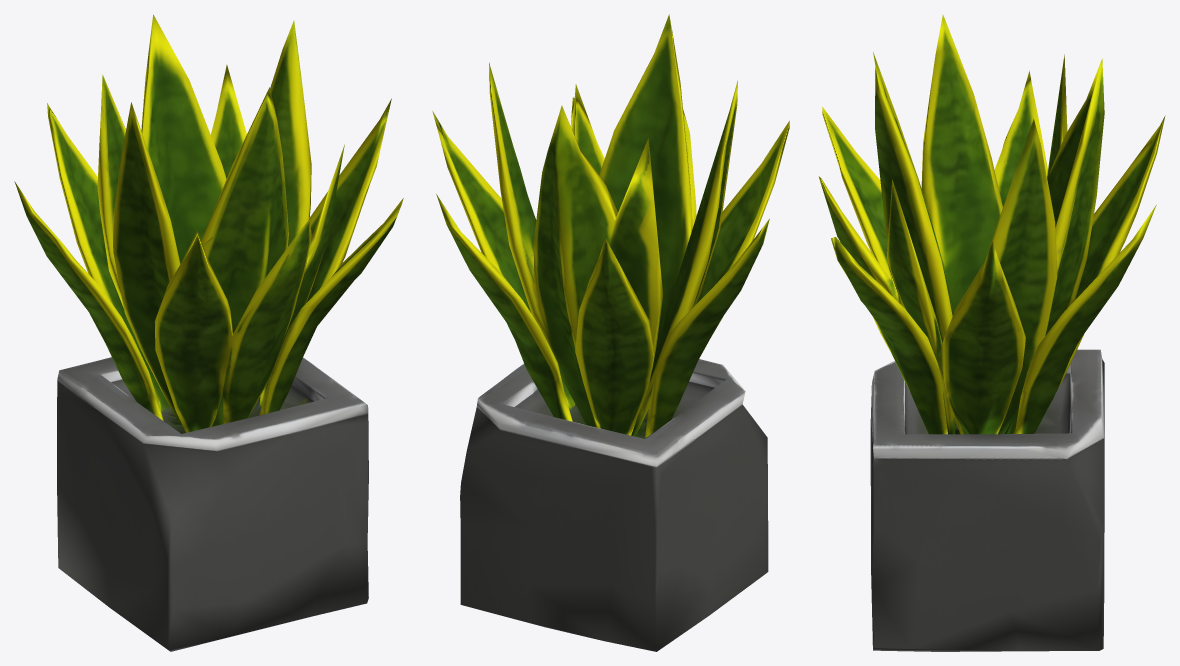
The model's file is plant_snake.glb.
The picture shows the model from 3 angles, left to right: view 1: azimuth 30°, elevation 25°; view 2: azimuth 150°, elevation 25°; view 3: azimuth 270°, elevation 25°; orthographic projection. The views are drawn at different scales.
Parts seen in each view (by area): view 1: tripo_node_695971ed-5686-43da-aad8-21e5806274a9; view 2: tripo_node_695971ed-5686-43da-aad8-21e5806274a9; view 3: tripo_node_695971ed-5686-43da-aad8-21e5806274a9.
Part boxes in pixels (x1,y1,x2,y2): tripo_node_695971ed-5686-43da-aad8-21e5806274a9: (14, 14, 403, 651); tripo_node_695971ed-5686-43da-aad8-21e5806274a9: (432, 14, 789, 651); tripo_node_695971ed-5686-43da-aad8-21e5806274a9: (818, 15, 1165, 651).
Bounding box in the file's own units: 0.6941 × 1 × 0.5687.
Materials: 1 (1 with a texture image).
